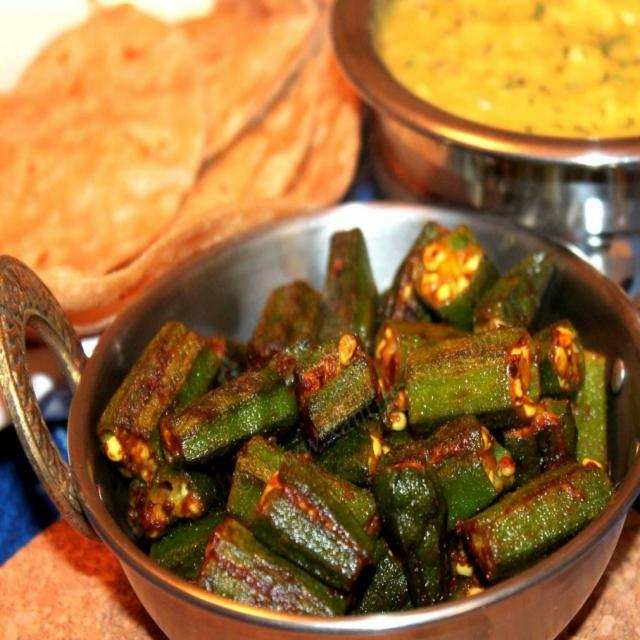BhindiMasala: (98, 219, 610, 617)
